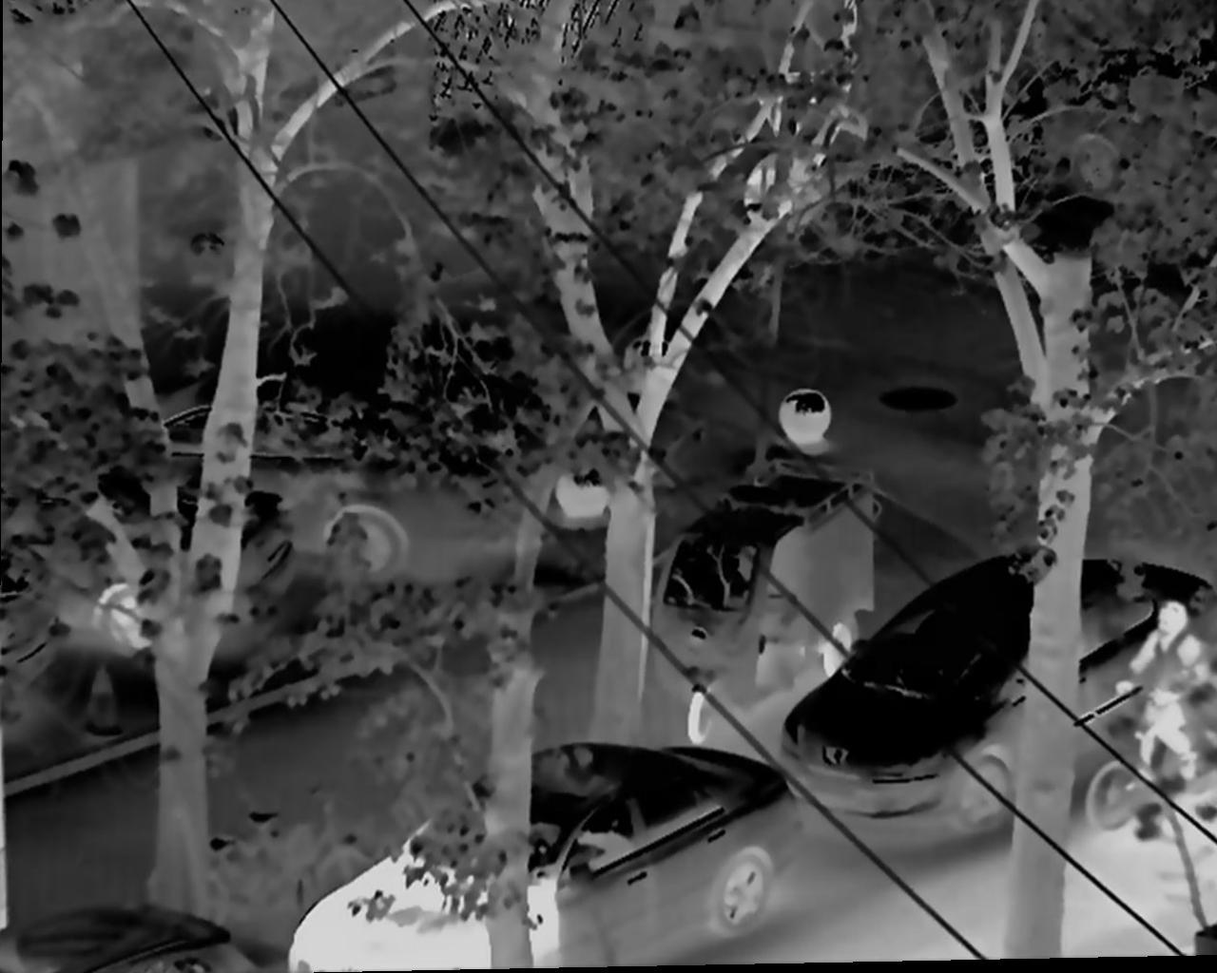person: (1127, 589, 1217, 807)
